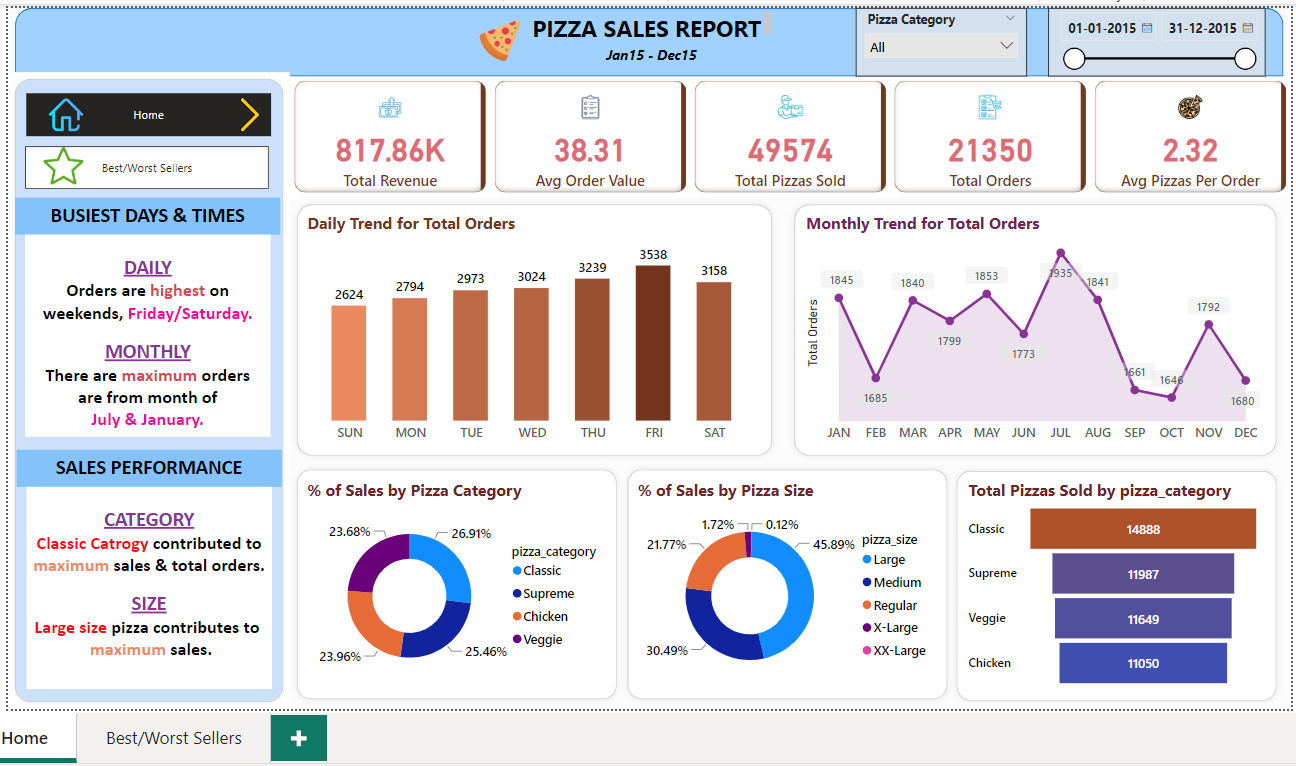

What the dashboard file says about the page in this screenshot:
{"tool":"powerbi","page":{"name":"Home","canvas":[1500,820],"ordinal":0},"visuals":[{"type":"cardVisual","fields":{"Data":["pizza_sales.Total Revenue","pizza_sales.Avg Order Value","pizza_sales.Total Pizzas Sold","pizza_sales.Total Orders","pizza_sales.Avg Pizzas Per Order"]},"box":[330,80,1170,141.7],"z":0},{"type":"shape","box":[8.3,0,1483.3,80],"z":1000},{"type":"textbox","box":[605,0,291.7,40],"z":2000},{"type":"textbox","box":[688.3,38.3,128.3,33.3],"z":3000},{"type":"image","box":[544.3,8.6,61.4,60],"z":4000},{"type":"shape","box":[330,221.7,571.7,310],"z":5000},{"type":"shape","box":[0,75,330,745],"z":6000},{"type":"columnChart","title":"Daily Trend for Total Orders","fields":{"Category":["pizza_sales.Order Day"],"Y":["pizza_sales.Total Orders"]},"box":[345,238.3,536.7,278.3],"z":7000},{"type":"shape","box":[911.7,221.7,580,310],"z":8000},{"type":"areaChart","title":"Monthly Trend for Total Orders","fields":{"Y":["pizza_sales.Total Orders"],"Category":["pizza_sales.Order Month"]},"box":[928.3,238.3,541.6,278.3],"z":9000},{"type":"shape","box":[330,531.7,390,285],"z":10000},{"type":"shape","box":[716.7,531.7,390,285],"z":11000},{"type":"textbox","box":[8.3,221.7,310,43.3],"z":12000},{"type":"shape","box":[1101.7,533.3,390,285],"z":13000},{"type":"donutChart","title":"% of Sales by Pizza Category","fields":{"Category":["pizza_sales.pizza_category"],"Y":["pizza_sales.Total Revenue"]},"box":[345,550,360,250],"z":14000},{"type":"donutChart","title":"% of Sales by Pizza Size","fields":{"Y":["pizza_sales.Total Revenue"],"Category":["pizza_sales.pizza_size"]},"box":[731.7,550,360,250],"z":15000},{"type":"funnel","fields":{"Y":["pizza_sales.Total Pizzas Sold"],"Category":["pizza_sales.pizza_category"]},"box":[1118.3,550,351.7,250],"z":16000},{"type":"textbox","box":[20,265,286.7,236.7],"z":17000},{"type":"textbox","box":[10,516.7,310,43.3],"z":18000},{"type":"textbox","box":[21.7,560,286.7,236.7],"z":19000},{"type":"slicer","fields":{"Values":["pizza_sales.pizza_category"]},"box":[992,0,200,80],"z":20000},{"type":"slicer","fields":{"Values":["pizza_sales.order_date"]},"box":[1216,0,254,80],"z":21000},{"type":"pageNavigator","box":[22,100,286,50],"z":22000},{"type":"pageNavigator","box":[20,162,286,50],"z":23000},{"type":"image","box":[256,100,52,50],"z":24000},{"type":"image","box":[36,100,62,50],"z":25000},{"type":"image","box":[36,150,56,68],"z":26000}]}

Visuals, with their boxes on the page's 1500x820 design canvas (x1, y1, x2, y2). These are canvas units, not pixel positions in the 1296x766 screenshot, which may show the page scaled, cropped or inside an application window:
cardVisual - pizza_sales.Total Revenue x pizza_sales.Avg Order Value: 330/80/1500/222
shape: 8/0/1492/80
textbox: 605/0/897/40
textbox: 688/38/817/72
image: 544/9/606/69
shape: 330/222/902/532
shape: 0/75/330/820
"Daily Trend for Total Orders" columnChart: 345/238/882/517
shape: 912/222/1492/532
"Monthly Trend for Total Orders" areaChart: 928/238/1470/517
shape: 330/532/720/817
shape: 717/532/1107/817
textbox: 8/222/318/265
shape: 1102/533/1492/818
"% of Sales by Pizza Category" donutChart: 345/550/705/800
"% of Sales by Pizza Size" donutChart: 732/550/1092/800
funnel - pizza_sales.Total Pizzas Sold x pizza_sales.pizza_category: 1118/550/1470/800
textbox: 20/265/307/502
textbox: 10/517/320/560
textbox: 22/560/308/797
slicer - pizza_sales.pizza_category: 992/0/1192/80
slicer - pizza_sales.order_date: 1216/0/1470/80
pageNavigator: 22/100/308/150
pageNavigator: 20/162/306/212
image: 256/100/308/150
image: 36/100/98/150
image: 36/150/92/218
